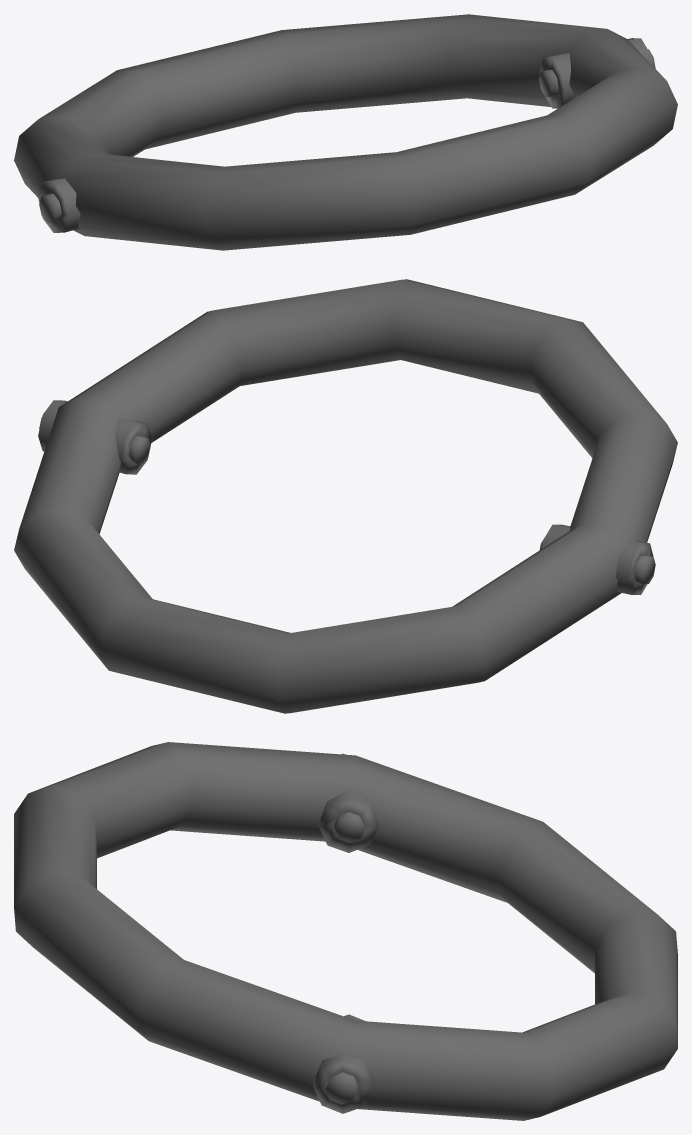
The model's file is Halo_low.fbx.
3 views of the same model, one above another, from view 1: azimuth 30°, elevation 25°; view 2: azimuth 150°, elevation 25°; view 3: azimuth 270°, elevation 25° (orthographic). The views are drawn at different scales.
Parts seen in each view (by area): view 1: Halo_low; view 2: Halo_low; view 3: Halo_low.
Boxes of the visible parts, box(x1,y1,x2,y2) form: Halo_low: box(14, 14, 677, 250); Halo_low: box(14, 279, 677, 713); Halo_low: box(14, 742, 677, 1120).
Size of the model in its own units: 53.3 by 16.19 by 47.7.
